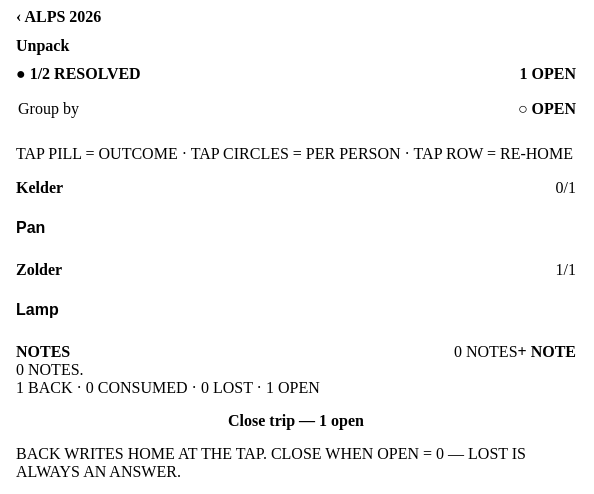
Scenario: the ○ OPEN filter (F4) › withholds a group whose every row the filter drops, and keeps one that still has work
Expected: the text "Zolder" is shown, [16, 261, 62, 279]
Expected: the text "Kelder" is shown, [16, 179, 63, 197]
Click the button with test id "unpack-open-filter" at x=547, y=109, box [518, 89, 576, 129]
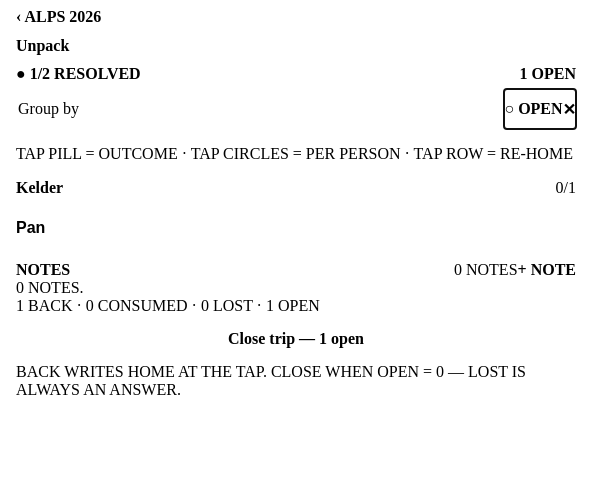
Expected: the text "Kelder" is shown, [16, 179, 63, 197]
Now the text "Zolder" is gone
